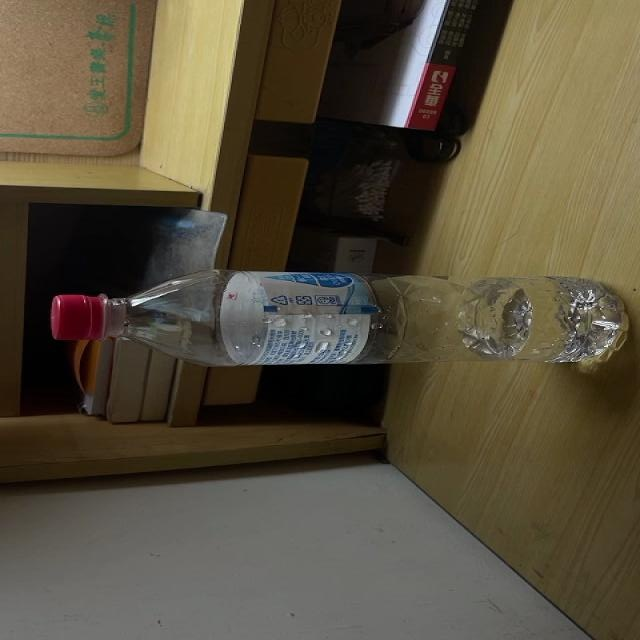Water: (46, 271, 629, 364)
